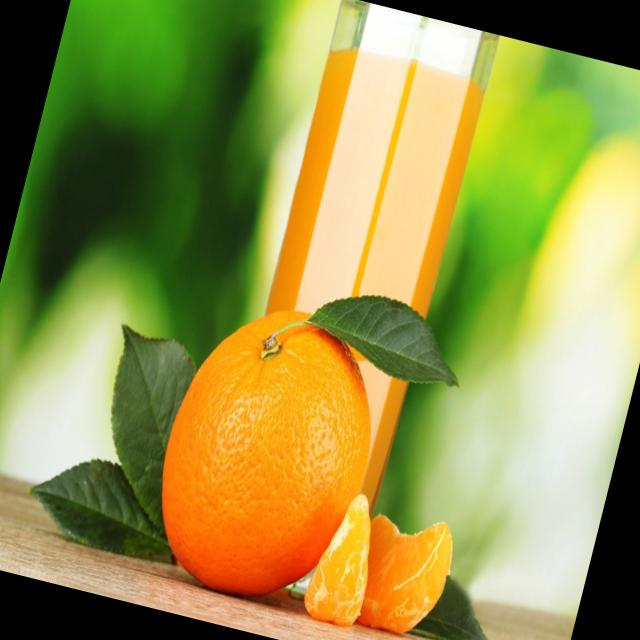orange: (121, 282, 406, 640)
